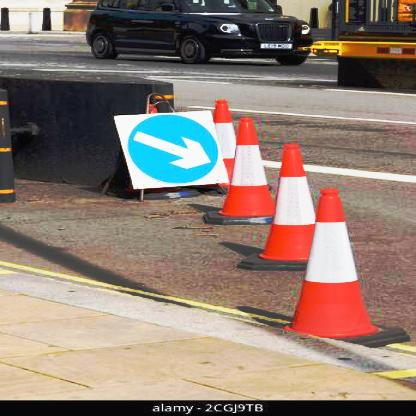Keep right: (115, 106, 226, 185)
